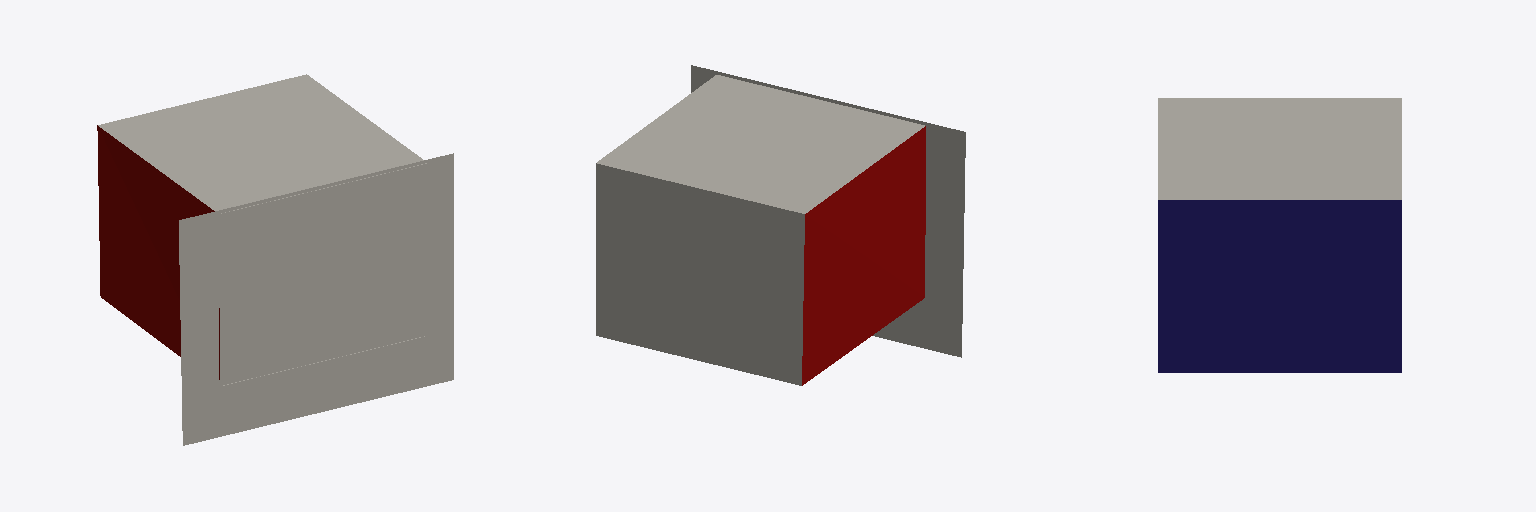
The picture shows the model from 3 angles: view 1: azimuth 30°, elevation 25°; view 2: azimuth 150°, elevation 25°; view 3: azimuth 270°, elevation 25°; orthographic projection.
Visible parts, largest first — view 1: frontWall_backWall.005, ceiling, leftWall; view 2: backWall, ceiling, leftWall, frontWall_backWall.005; view 3: rightWall, ceiling.
Boxes of the visible parts, x1,y1,x2,y2 form: frontWall_backWall.005: [179, 153, 453, 445]; ceiling: [98, 74, 426, 213]; leftWall: [97, 125, 219, 379]; backWall: [596, 163, 804, 385]; ceiling: [597, 75, 924, 213]; leftWall: [802, 126, 925, 385]; frontWall_backWall.005: [691, 65, 965, 357]; rightWall: [1158, 200, 1401, 372]; ceiling: [1158, 98, 1401, 199].
Bounding box in the file's own units: 2.65 × 2.09 × 2.03.